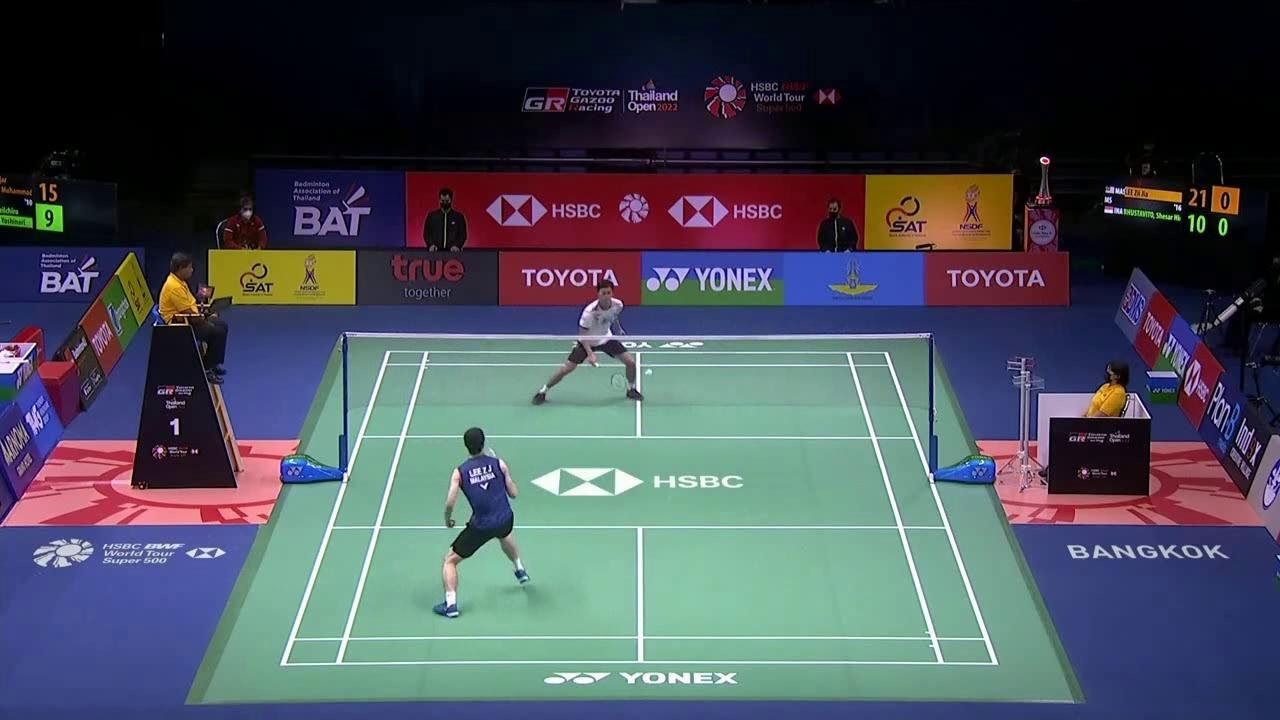racket: (589, 356, 626, 391), (478, 442, 509, 479)
shuttle: (645, 368, 652, 376)
